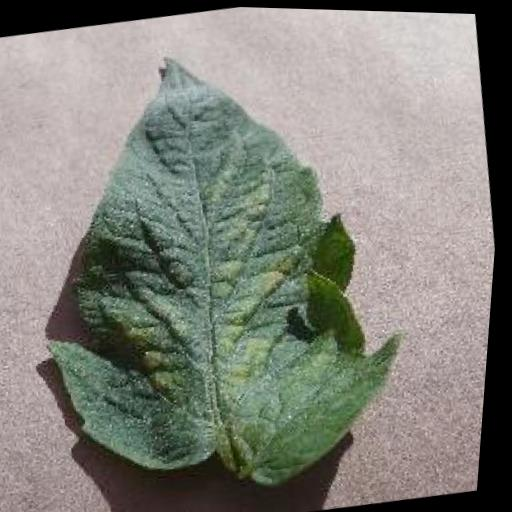Spider Mites: (2, 20, 444, 512)
